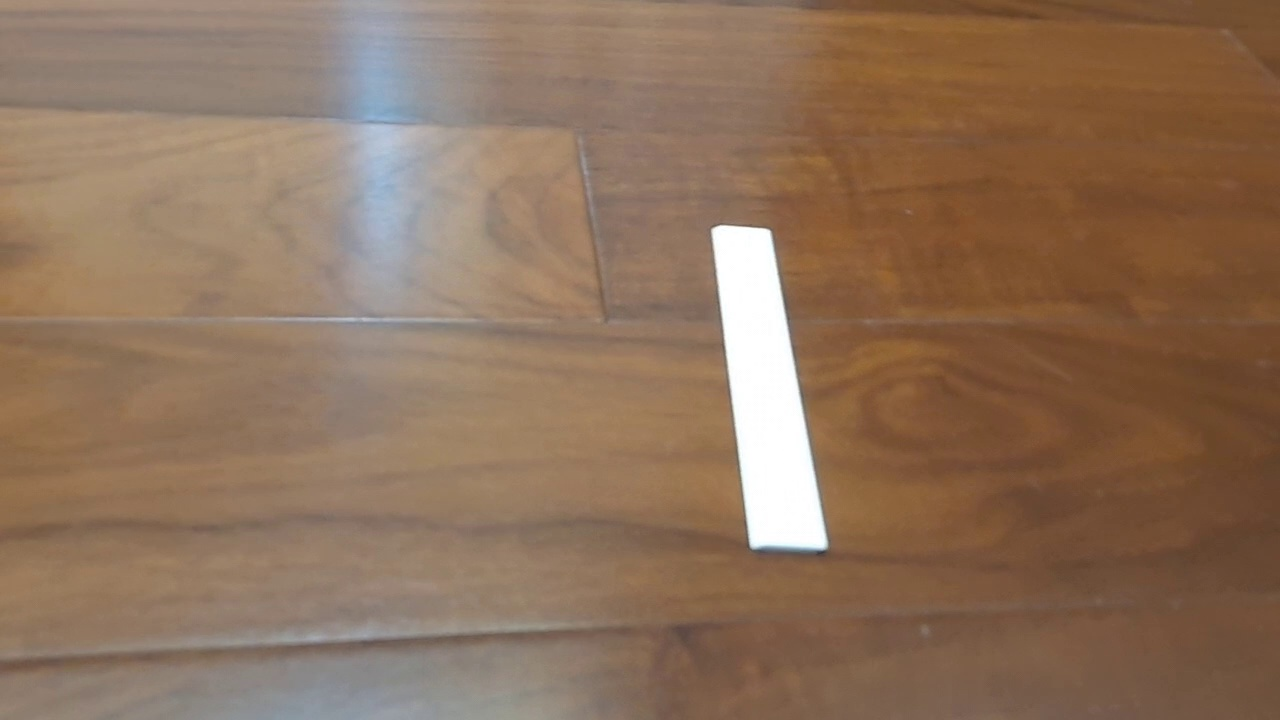ruler: (709, 223, 831, 557)
